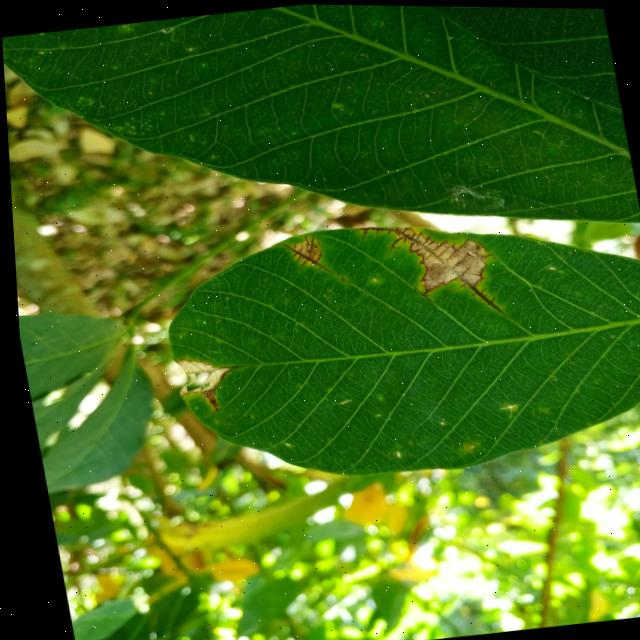Corynespora: (351, 211, 506, 331), (275, 231, 327, 275), (196, 386, 217, 414)
Leaf-Blight: (169, 355, 227, 396)
